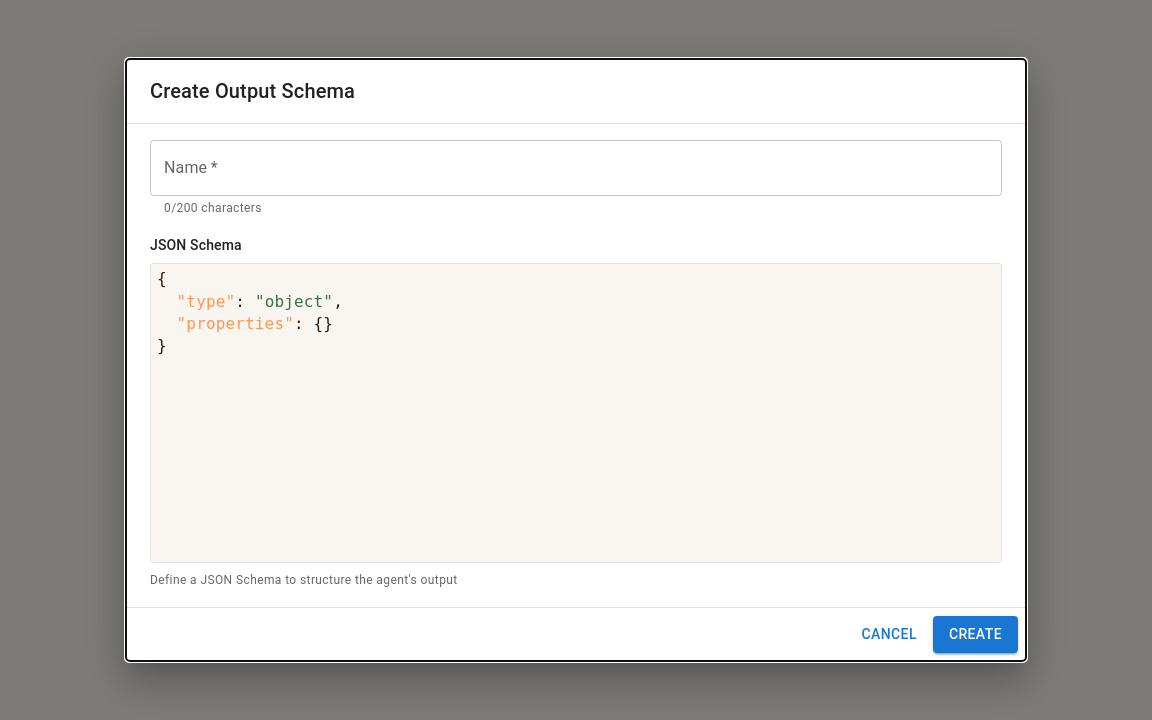
Test: OutputSchemaFormDialog › handles 409 conflict errors
This screenshot has width=1152, height=720.
Type "Duplicate Schema" into the field labelled "Name *" at [576, 168], box [150,140,1002,196]
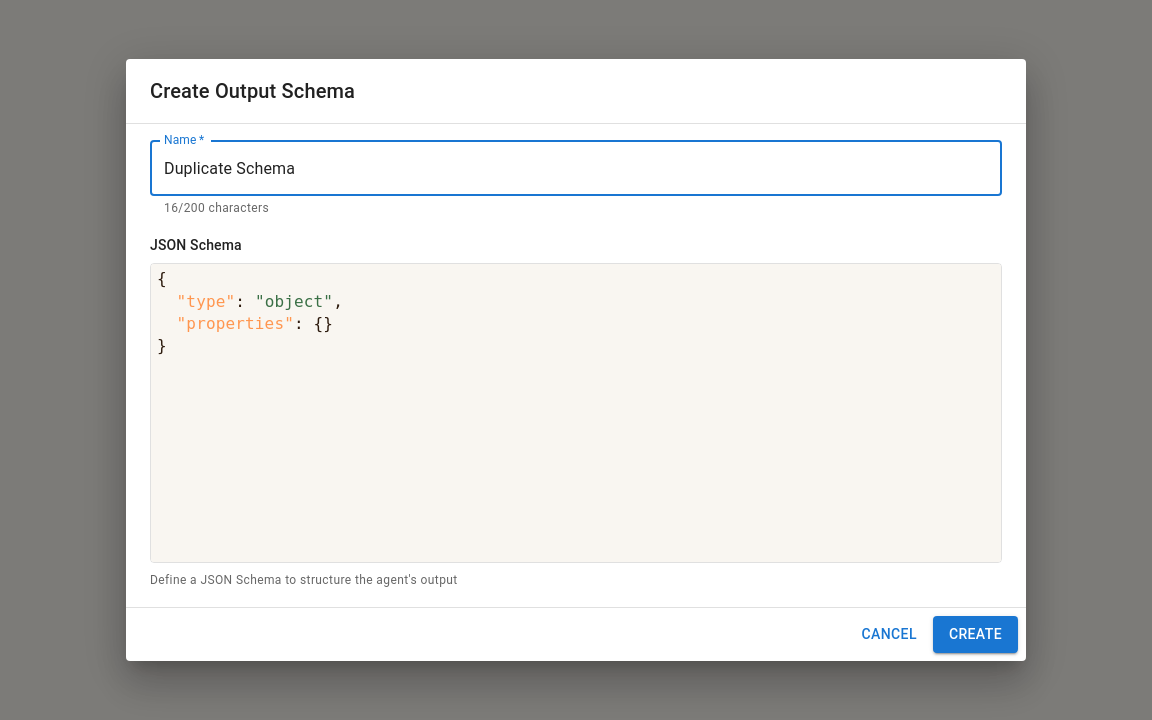
Click the button "Create" at [975, 634], box [933,616,1018,653]
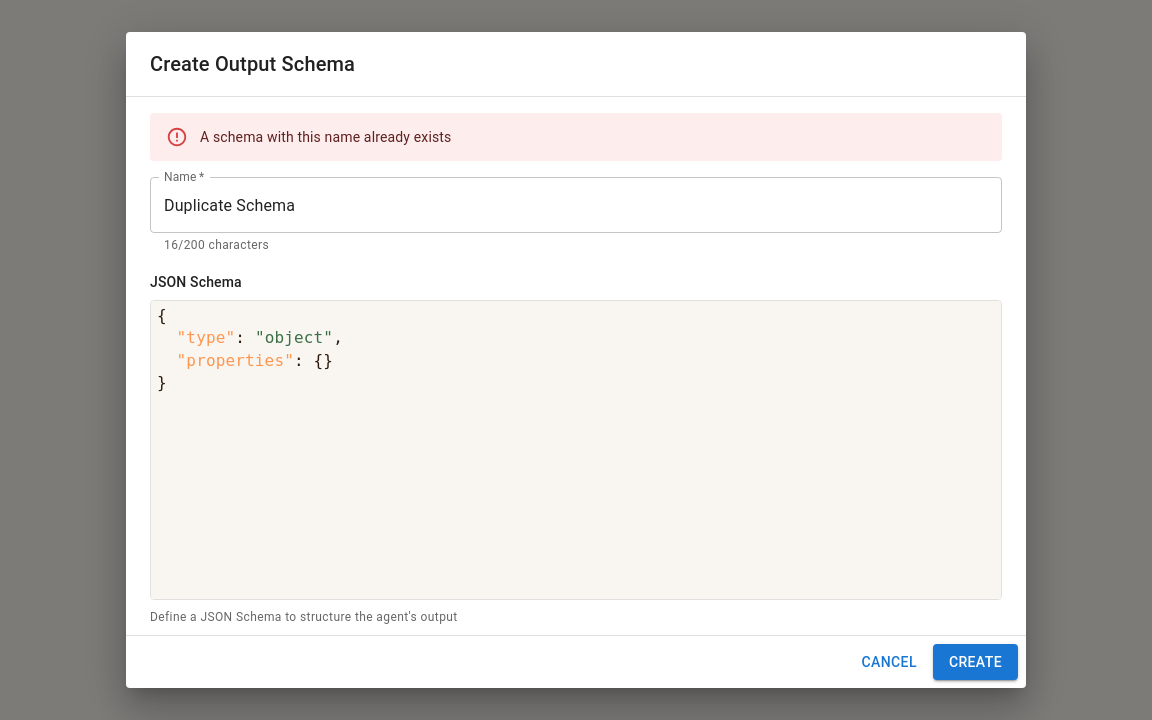
Expected: the text "A schema with this name already exists" is shown, [200,129,451,145]
